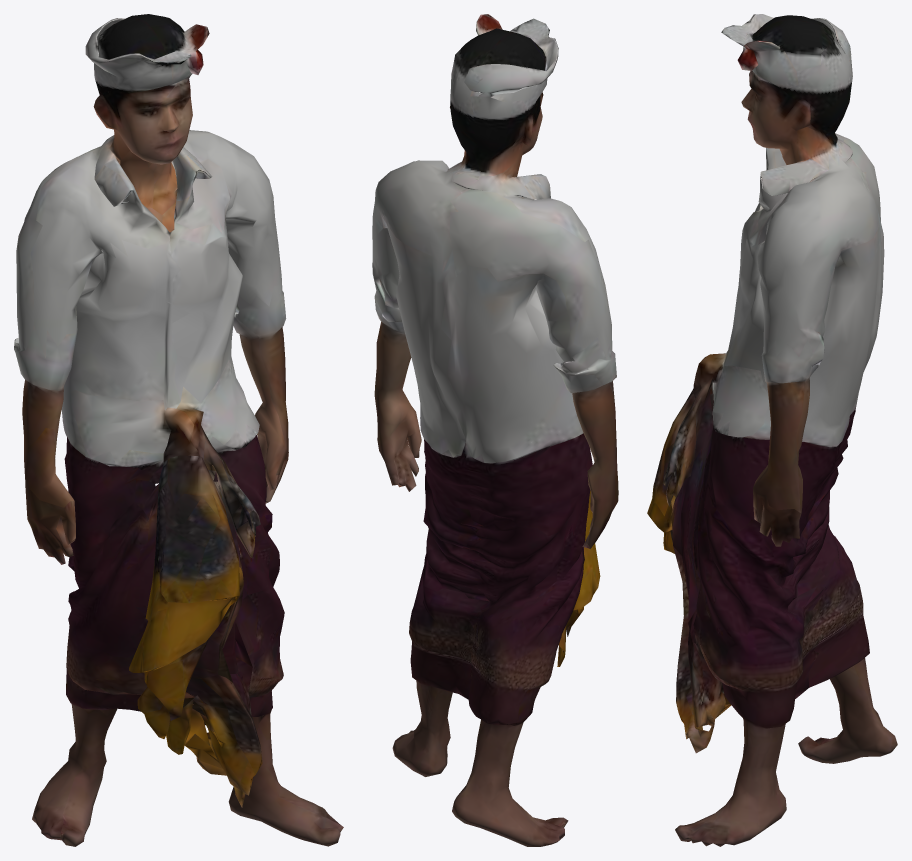
File: cowok_baju_bali_idle.glb
3 views of the same model, side by side, from view 1: azimuth 30°, elevation 25°; view 2: azimuth 150°, elevation 25°; view 3: azimuth 270°, elevation 25° (orthographic). The views are drawn at different scales.
Parts seen in each view (by area): view 1: tripo_node_918b0ae5-4ae0-4051-b08e-c013eb1250b8; view 2: tripo_node_918b0ae5-4ae0-4051-b08e-c013eb1250b8; view 3: tripo_node_918b0ae5-4ae0-4051-b08e-c013eb1250b8.
Part boxes in pixels (<box>): tripo_node_918b0ae5-4ae0-4051-b08e-c013eb1250b8: <box>14,14,343,846</box>; tripo_node_918b0ae5-4ae0-4051-b08e-c013eb1250b8: <box>372,14,618,846</box>; tripo_node_918b0ae5-4ae0-4051-b08e-c013eb1250b8: <box>647,14,897,846</box>.
Bounding box in the file's own units: 34.18 × 99.6 × 29.53.
1 material, 1 textured.
